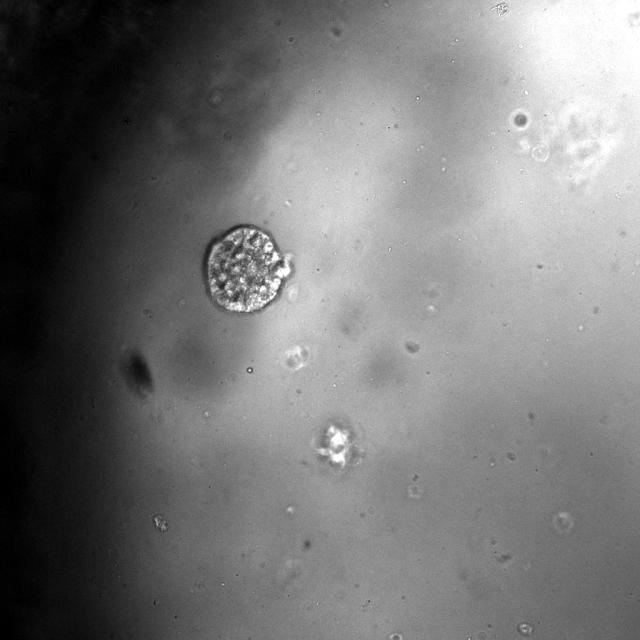organoid: (204, 225, 291, 314), (316, 421, 355, 469)
